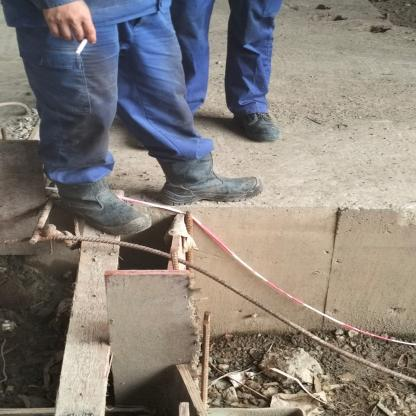bota: (160, 154, 262, 206), (65, 175, 151, 235), (228, 102, 282, 144)
